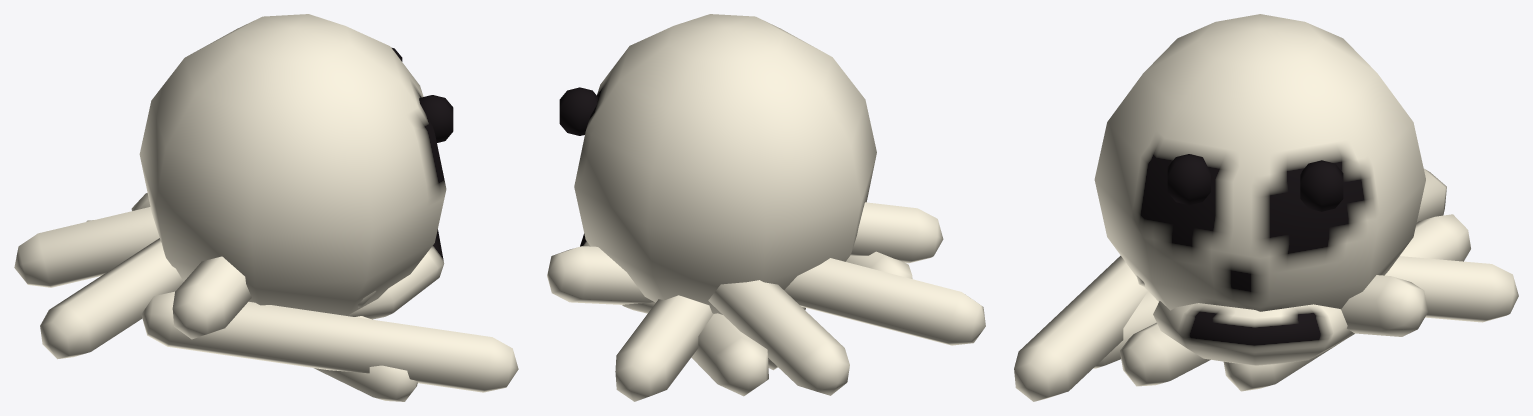
File: prop_bonepile0_c53d.glb
The picture shows the model from 3 angles, left to right: view 1: azimuth 30°, elevation 25°; view 2: azimuth 150°, elevation 25°; view 3: azimuth 270°, elevation 25°; orthographic projection. The views are drawn at different scales.
Parts seen in each view (by area): view 1: prop_bonepile0_c53d; view 2: prop_bonepile0_c53d; view 3: prop_bonepile0_c53d.
Part boxes in pixels (x1,y1,x2,y2): prop_bonepile0_c53d: [14, 14, 518, 401]; prop_bonepile0_c53d: [547, 14, 985, 401]; prop_bonepile0_c53d: [1014, 14, 1518, 401].
Bounding box in the file's own units: 0.5209 × 0.4097 × 0.5517.
1 material, 1 textured.
